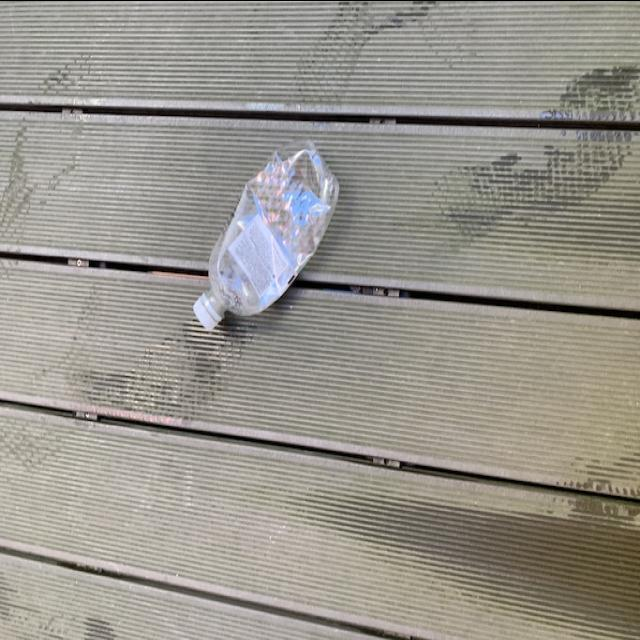PET: (193, 136, 342, 328)
